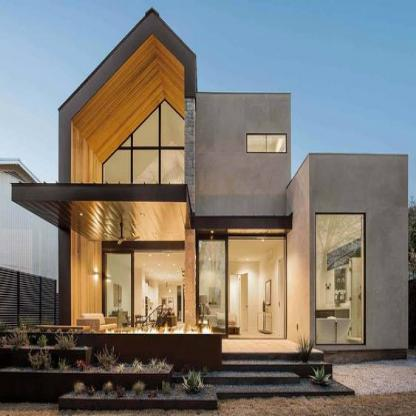Building Outline: (0, 9, 408, 413)
Facade: (1, 8, 408, 413)
Glass Wall: (103, 100, 186, 196), (315, 213, 365, 344), (227, 238, 285, 339), (134, 250, 184, 330), (198, 240, 225, 333), (107, 253, 132, 331)
Roof: (58, 9, 196, 120)
Window: (70, 32, 185, 184), (71, 229, 185, 331), (247, 133, 286, 153)
